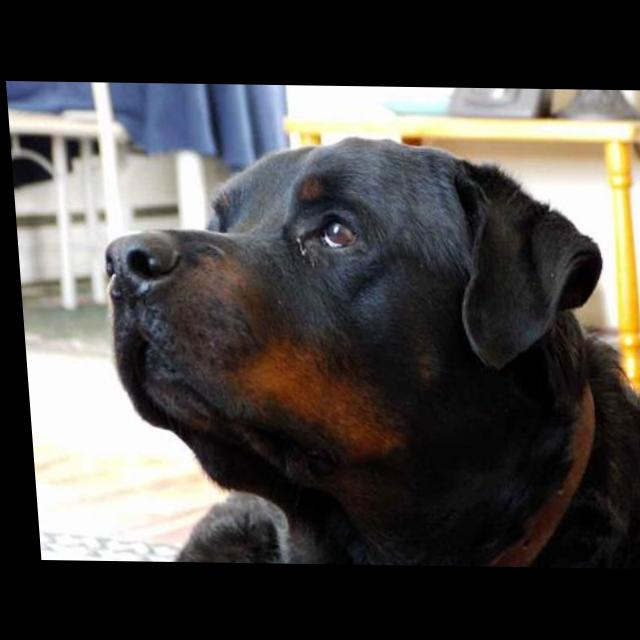rottweiler: (90, 130, 640, 568)
